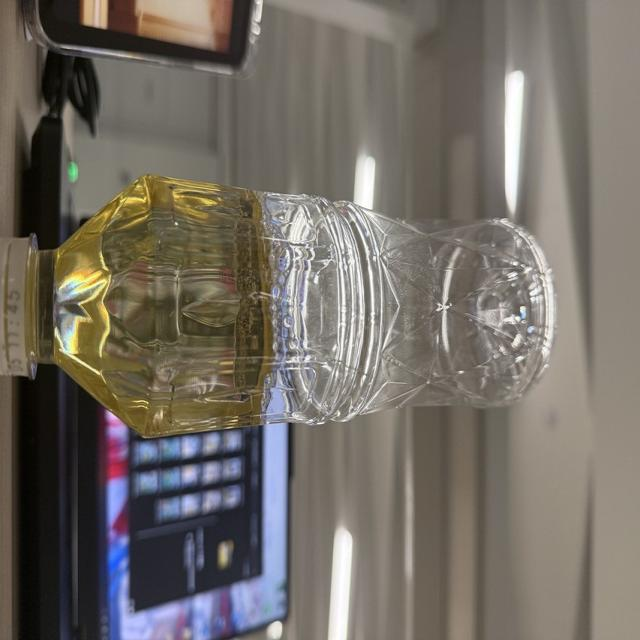low: (0, 175, 555, 436)
